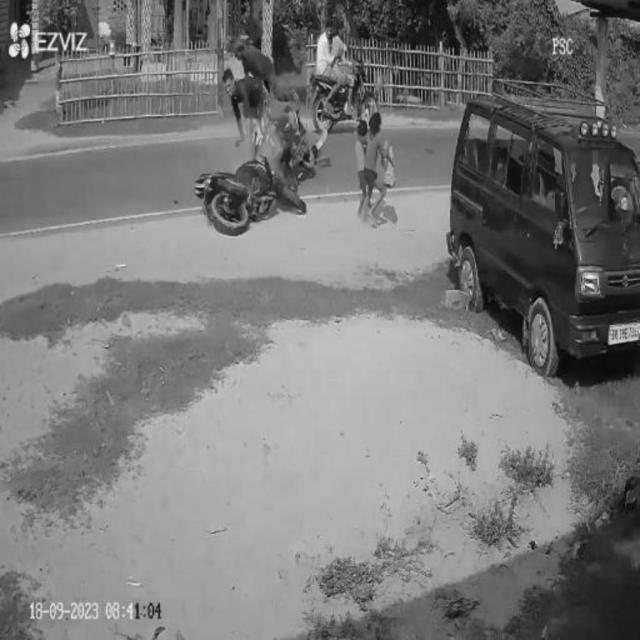accident: (192, 55, 320, 235)
person: (358, 114, 392, 222)
vehicle: (443, 94, 640, 382), (310, 22, 376, 132)
